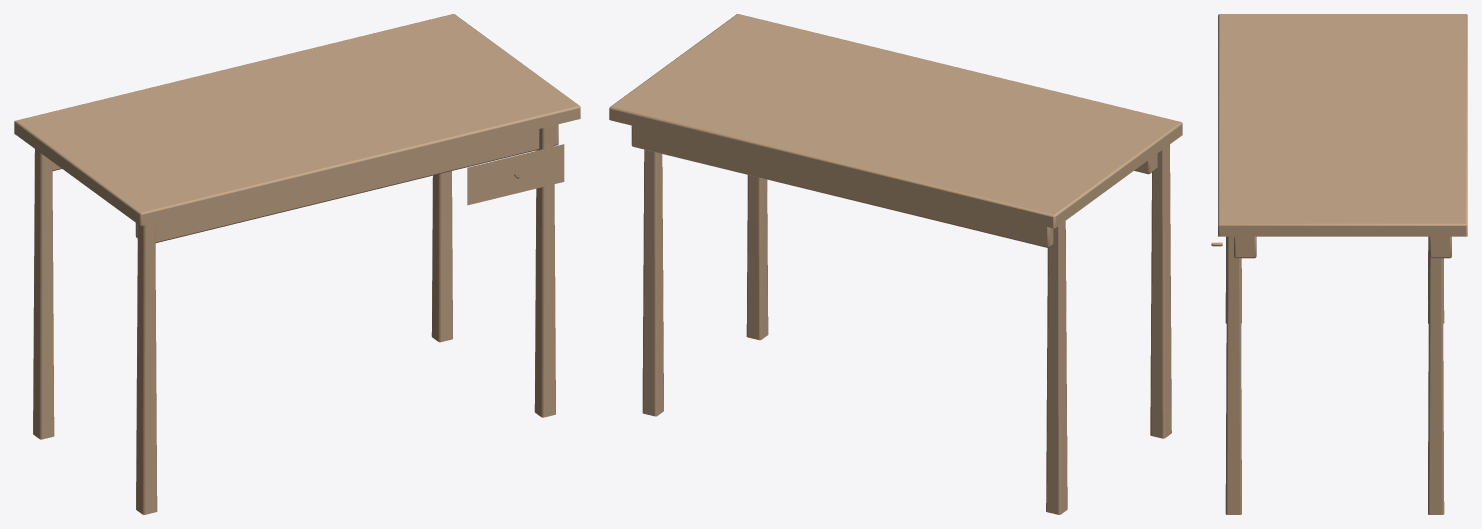
File: BanHoc_Khoi.glb
3 views of the same model, side by side, from view 1: azimuth 30°, elevation 25°; view 2: azimuth 150°, elevation 25°; view 3: azimuth 270°, elevation 25° (orthographic). The views are drawn at different scales.
Parts seen in each view (by area): view 1: geometry_0; view 2: geometry_0; view 3: geometry_0.
Part boxes in pixels (left/top/right/bottom): geometry_0: left=14, top=14, right=580, bottom=514; geometry_0: left=609, top=14, right=1182, bottom=514; geometry_0: left=1211, top=14, right=1467, bottom=514.
Bounding box in the file's own units: 1.1 × 0.73 × 0.565.
